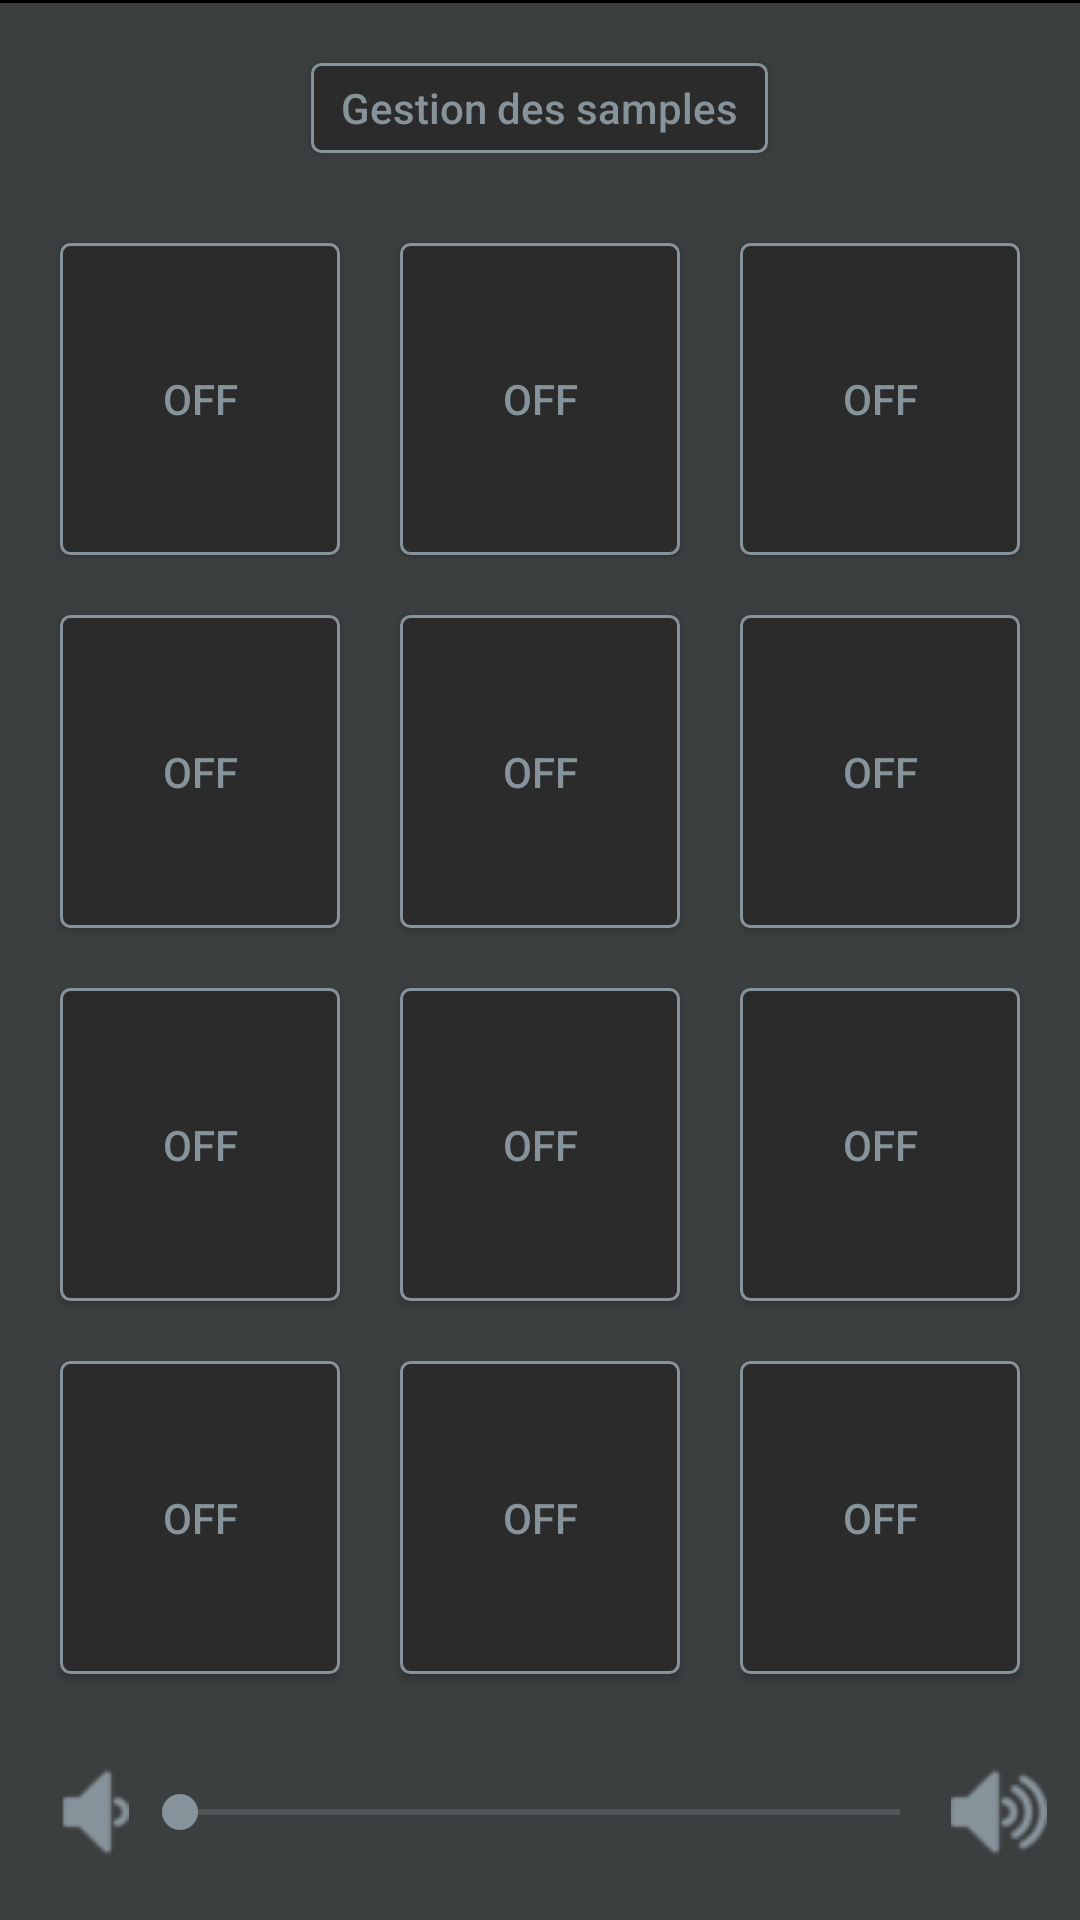

Named icons in this screenshot (1080w x 1920h) and their bounding boxes, bbox=(x1, y1, x2, y2):
Volume +: bbox=(951, 1771, 1047, 1853)
Volume -: bbox=(62, 1771, 129, 1853)
